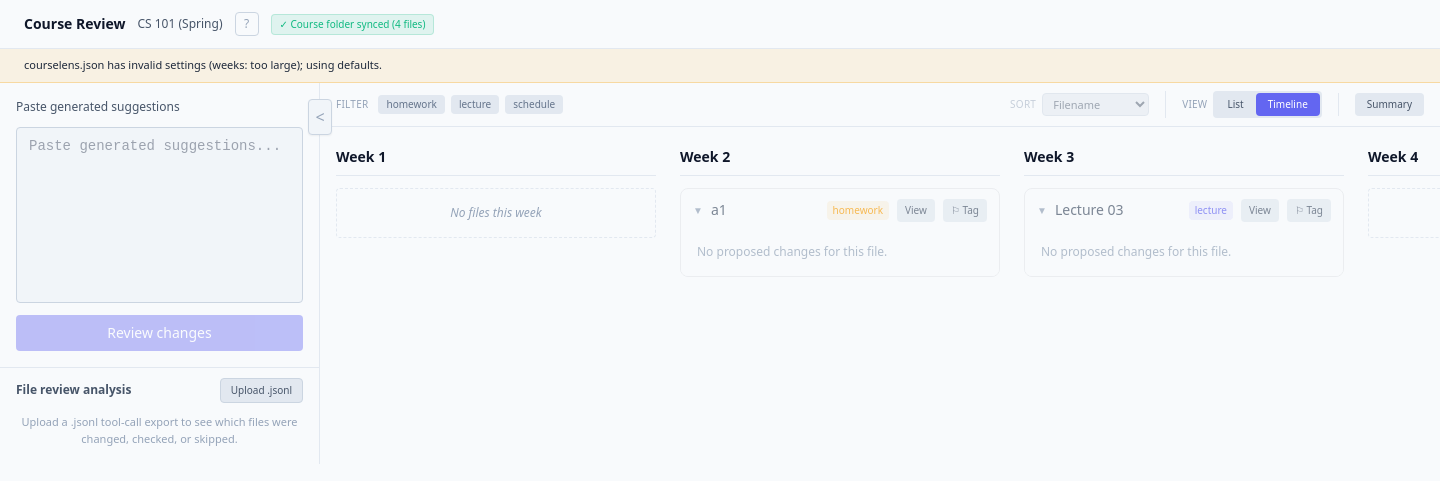
Course Review with a configured course folder › explains why a preview could not be shown
The image size is (1440, 481).
Step 1. Click the button "View" below "Week 3" → (1260, 210), box [1241,198,1279,222]
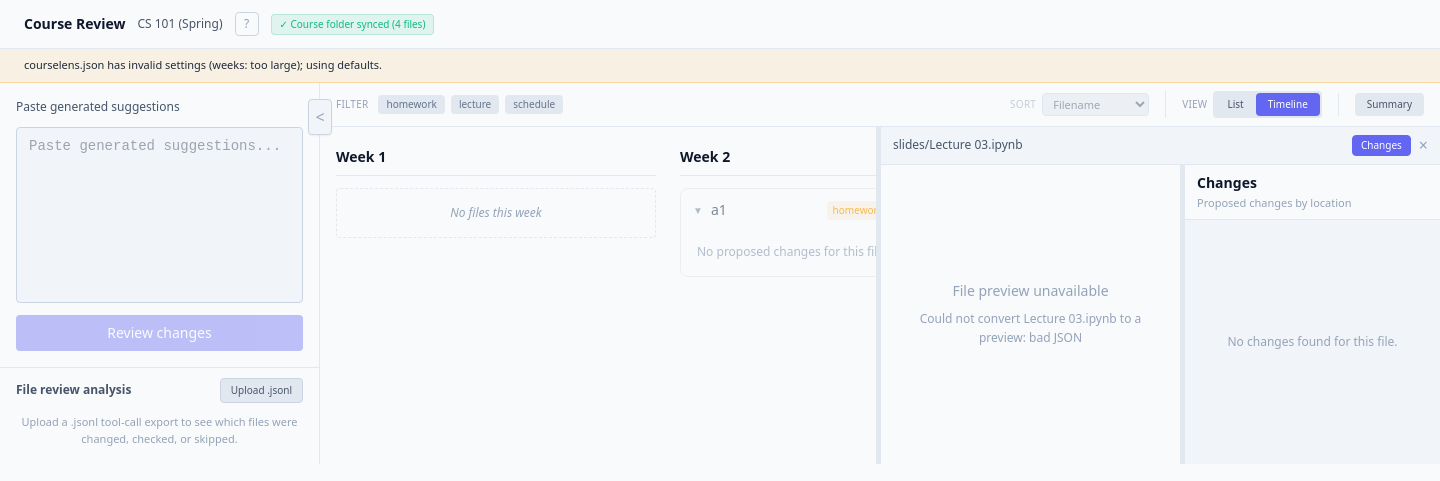
expect the text "Could not convert Lecture 03.ipynb to a preview: bad JSON" is shown: met, box [905,309,1156,348]
